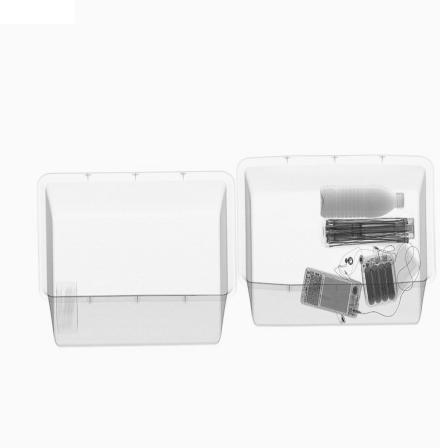Powerbank: (360, 252, 398, 310)
